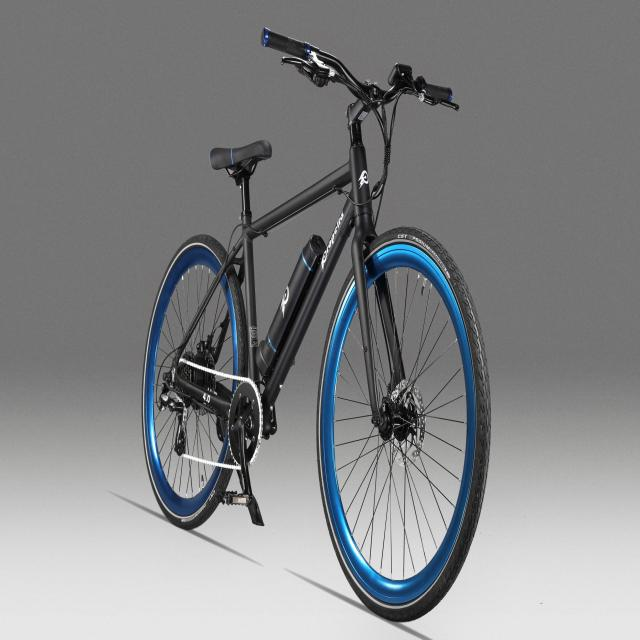bicycle: (130, 9, 507, 637)
